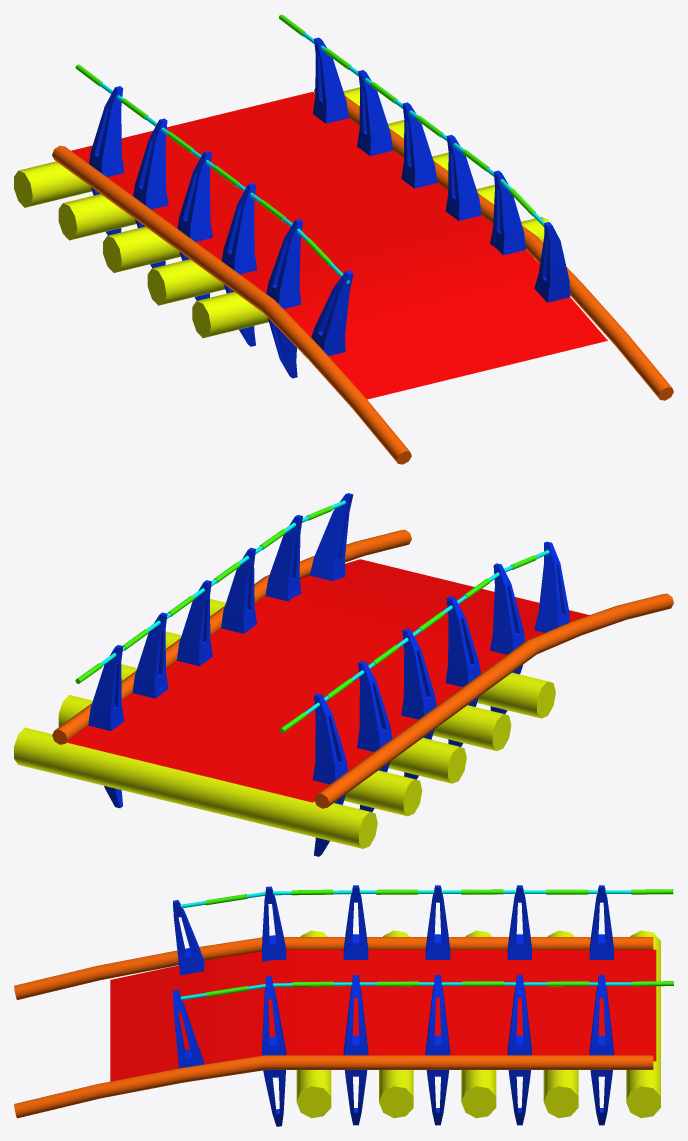
The model's file is puentelevel3_1.fbx.
3 views of the same model, one above another, from view 1: azimuth 30°, elevation 25°; view 2: azimuth 150°, elevation 25°; view 3: azimuth 270°, elevation 25° (orthographic). The views are drawn at different scales.
Visible parts, largest first — view 1: Line002; view 2: Line002; view 3: Line002.
Boxes of the visible parts, x1,y1,x2,y2 form: Line002: [14, 14, 673, 464]; Line002: [14, 493, 673, 856]; Line002: [14, 885, 673, 1126].
Size of the model in its own units: 5.75 by 2.57 by 10.29.
